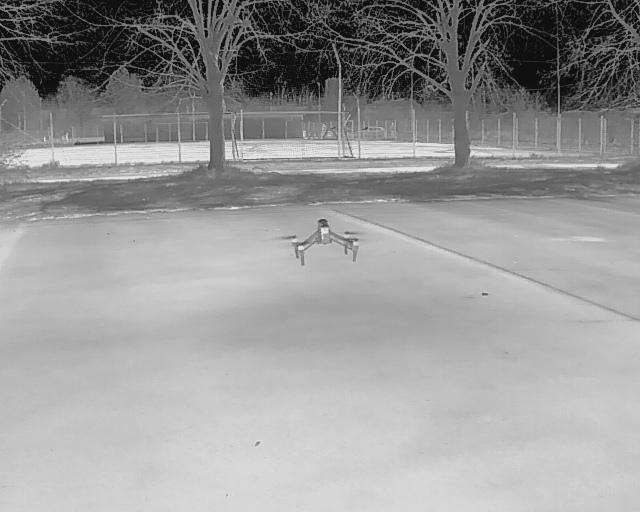drone: (277, 210, 372, 284)
